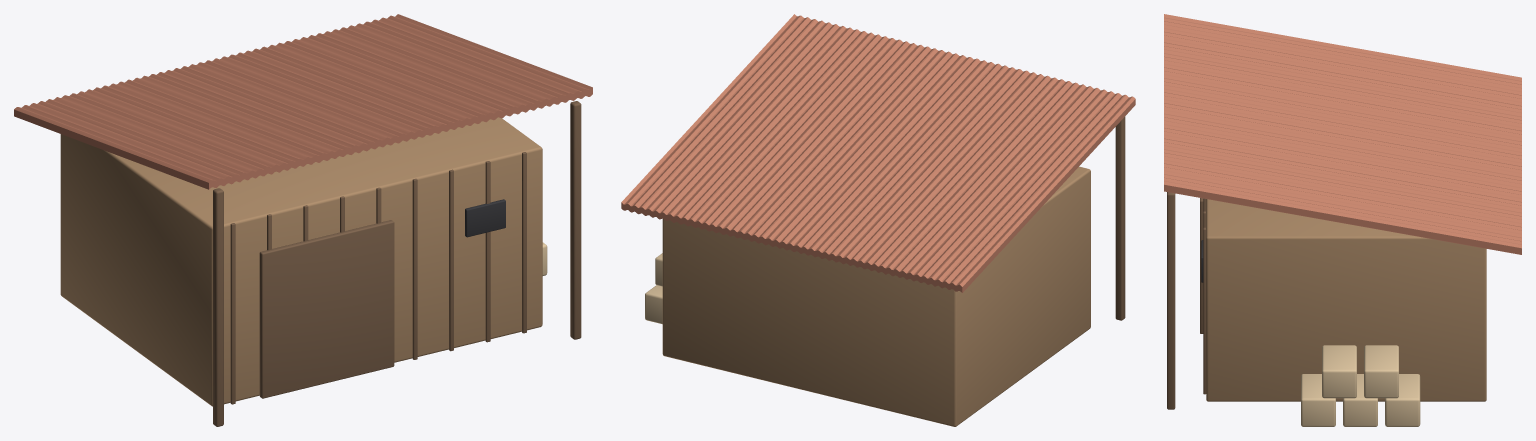
Rendered from naya.glb.
3 renders of one model, left to right at view 1: azimuth 30°, elevation 25°; view 2: azimuth 150°, elevation 25°; view 3: azimuth 270°, elevation 25°, orthographic. The views are drawn at different scales.
Parts seen in each view (by area): view 1: naya; view 2: naya; view 3: naya.
Boxes of the visible parts, x1,y1,x2,y2 form: naya: (14, 14, 592, 426); naya: (621, 14, 1135, 426); naya: (1164, 14, 1521, 426).
Size of the model in its own units: 6.25 by 3.61 by 5.1.
